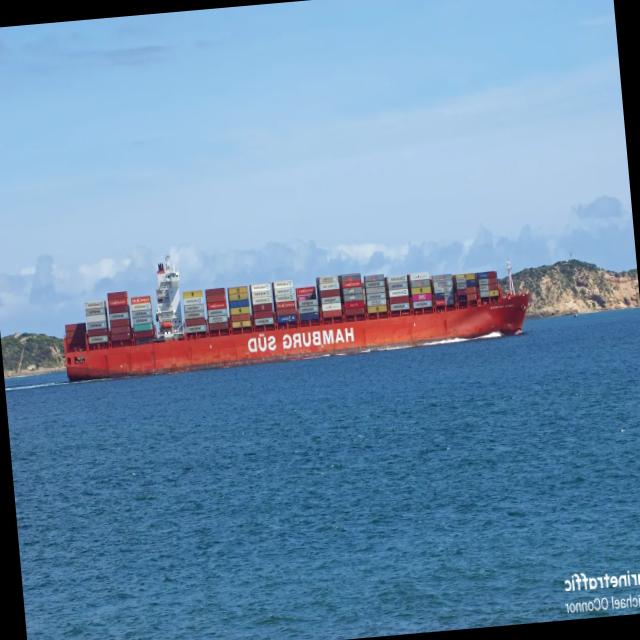Cargo: (64, 256, 530, 380)
